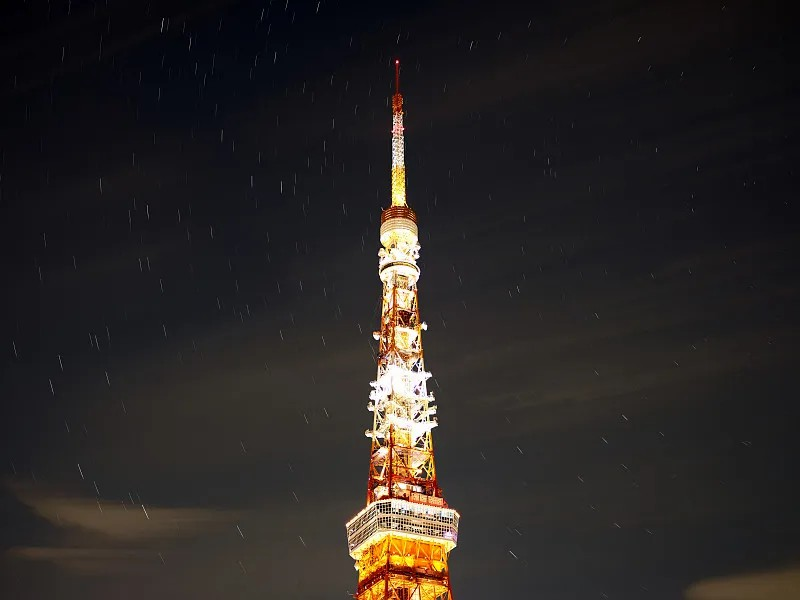Tokyo: (344, 51, 462, 599)
